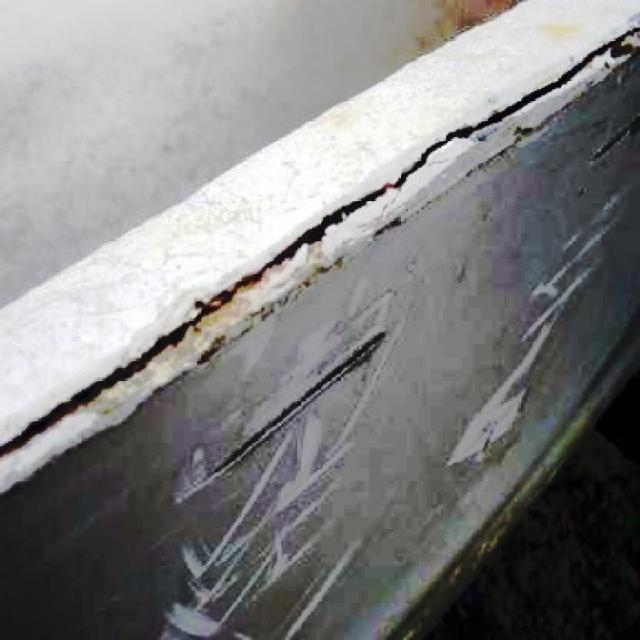crack: (3, 284, 257, 455), (258, 134, 464, 280), (464, 26, 640, 134)
